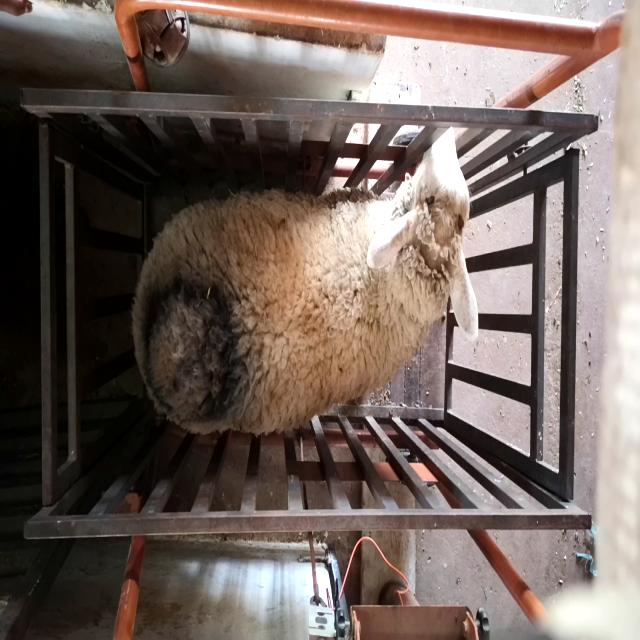sheep: (130, 127, 478, 439)
